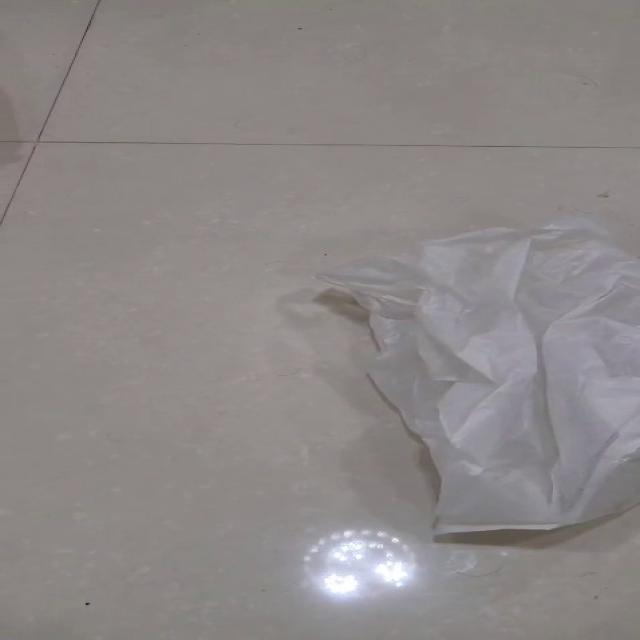plastic: (309, 217, 639, 537)
